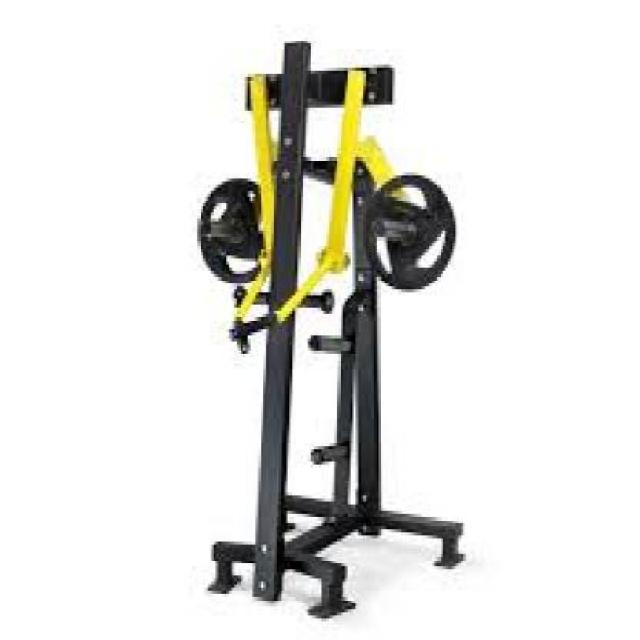lateral raises machine: (194, 39, 471, 622)
